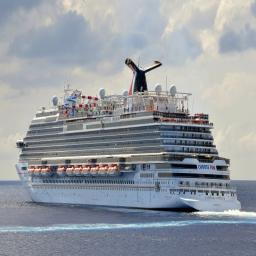cruises: (15, 58, 244, 218)
